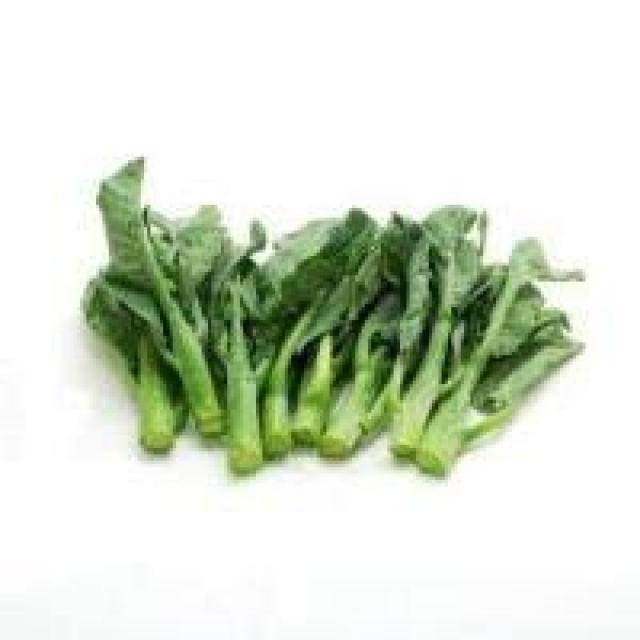collard: (80, 156, 596, 480)
